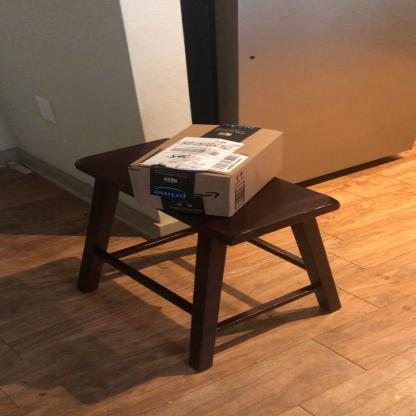package: (125, 123, 288, 220)
